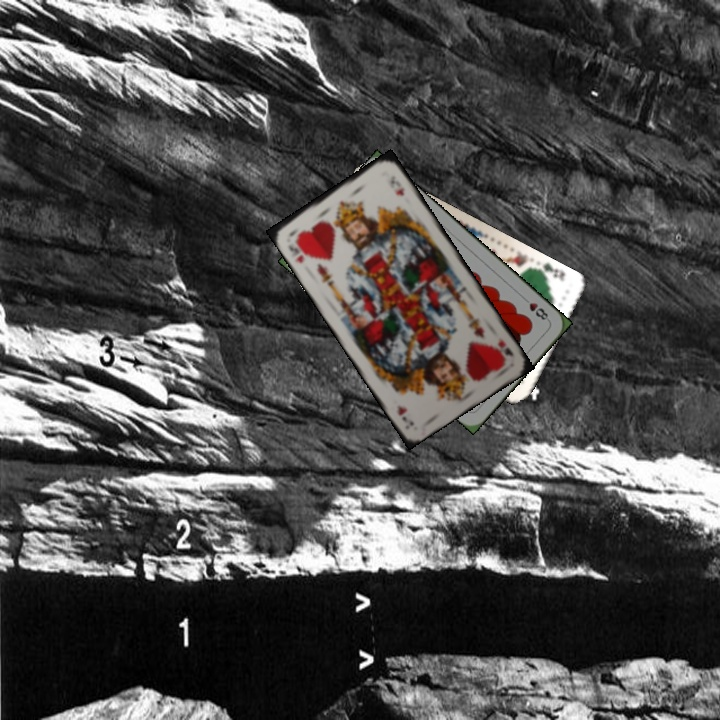GK: (533, 259, 568, 283)
H8: (518, 293, 552, 324)
HK: (284, 233, 310, 266), (494, 334, 516, 359)
